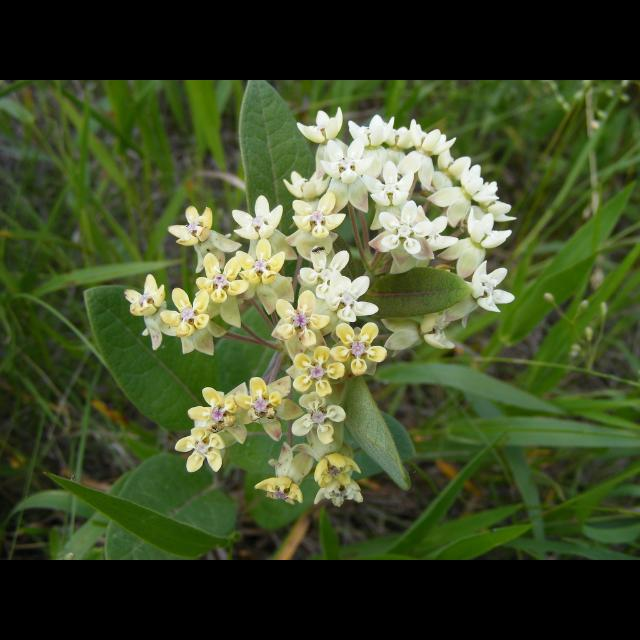Flower: (159, 107, 516, 510), (124, 276, 212, 352)
